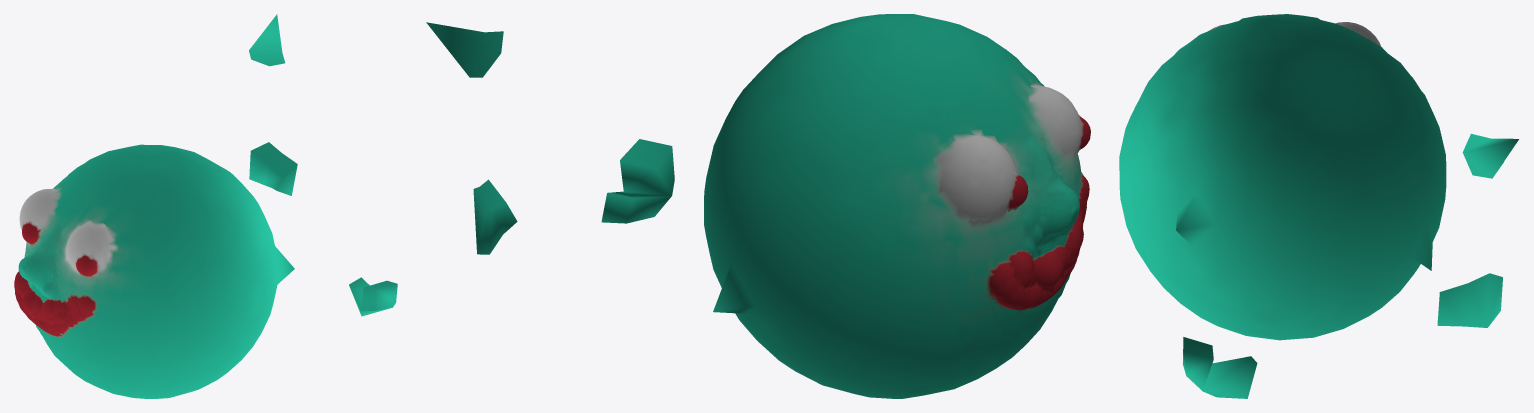
3 views of the same model, side by side, from view 1: azimuth 30°, elevation 25°; view 2: azimuth 150°, elevation 25°; view 3: azimuth 270°, elevation 25° (orthographic). The views are drawn at different scales.
Parts seen in each view (by area): view 1: 1_Node; view 2: 1_Node; view 3: 1_Node.
Boxes of the visible parts, x1,y1,x2,y2 form: 1_Node: (14, 14, 397, 398); 1_Node: (426, 14, 1090, 398); 1_Node: (1119, 14, 1518, 398).
Bounding box in the file's own units: 103972 × 73136 × 82024.
